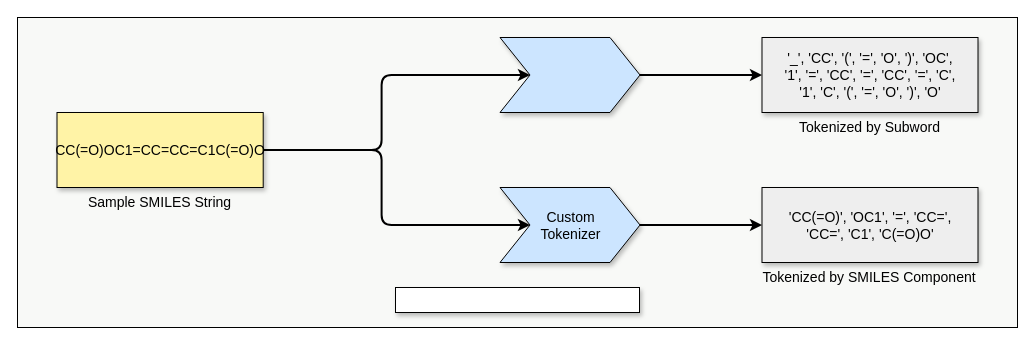
The diagram is 1035 pixels wide and 345 high, and some of its shapes have lost their labels. The centre of each missing label's shape, as x and y in pixels:
"MolT5 and Custom Tokenizers" goes at point 518,301.
"MolT5 Tokenizer" goes at point 570,76.
